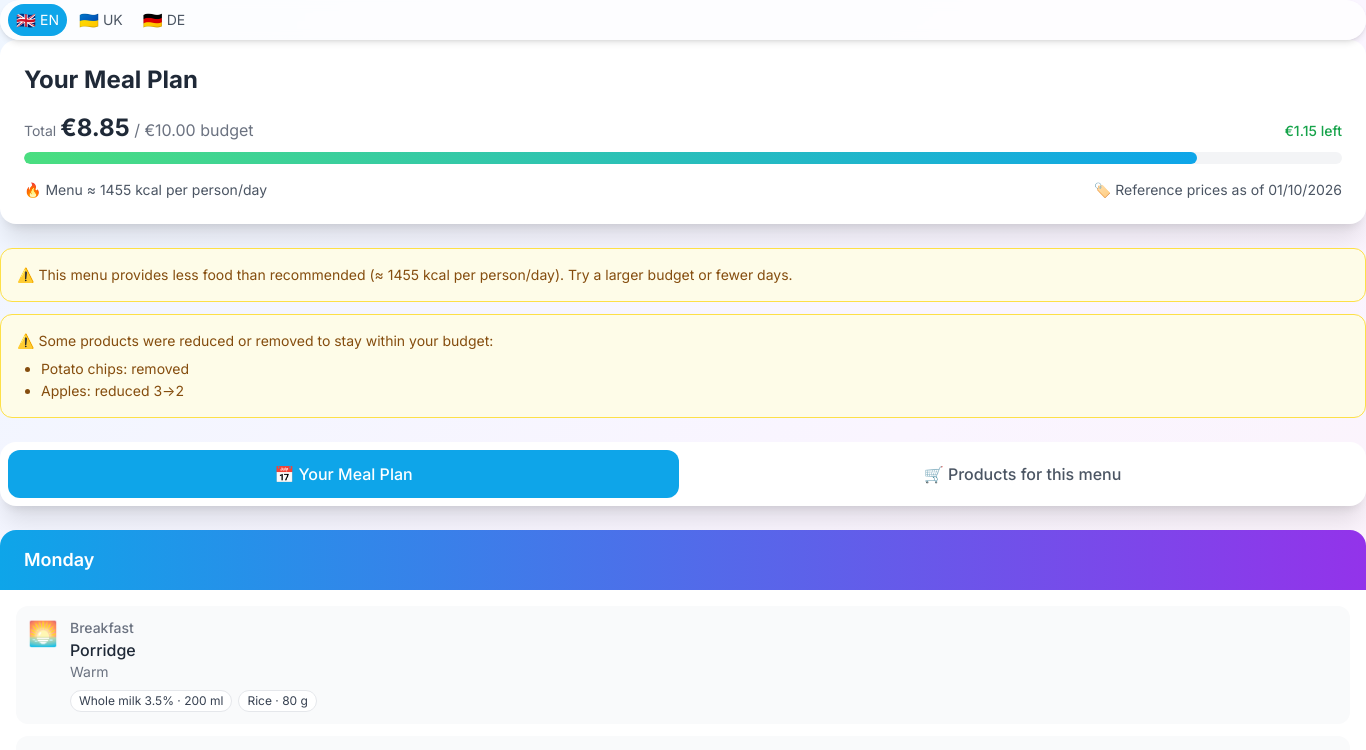
Scenario: Results › re-labels products when the UI language changes; meals stay as generated
Expected: the list item "Whole milk 3.5% · 200 ml" is shown, left=70, top=690, right=232, bottom=712
Click the button titled "Українська" at (101, 20), box left=71, top=4, right=131, bottom=36
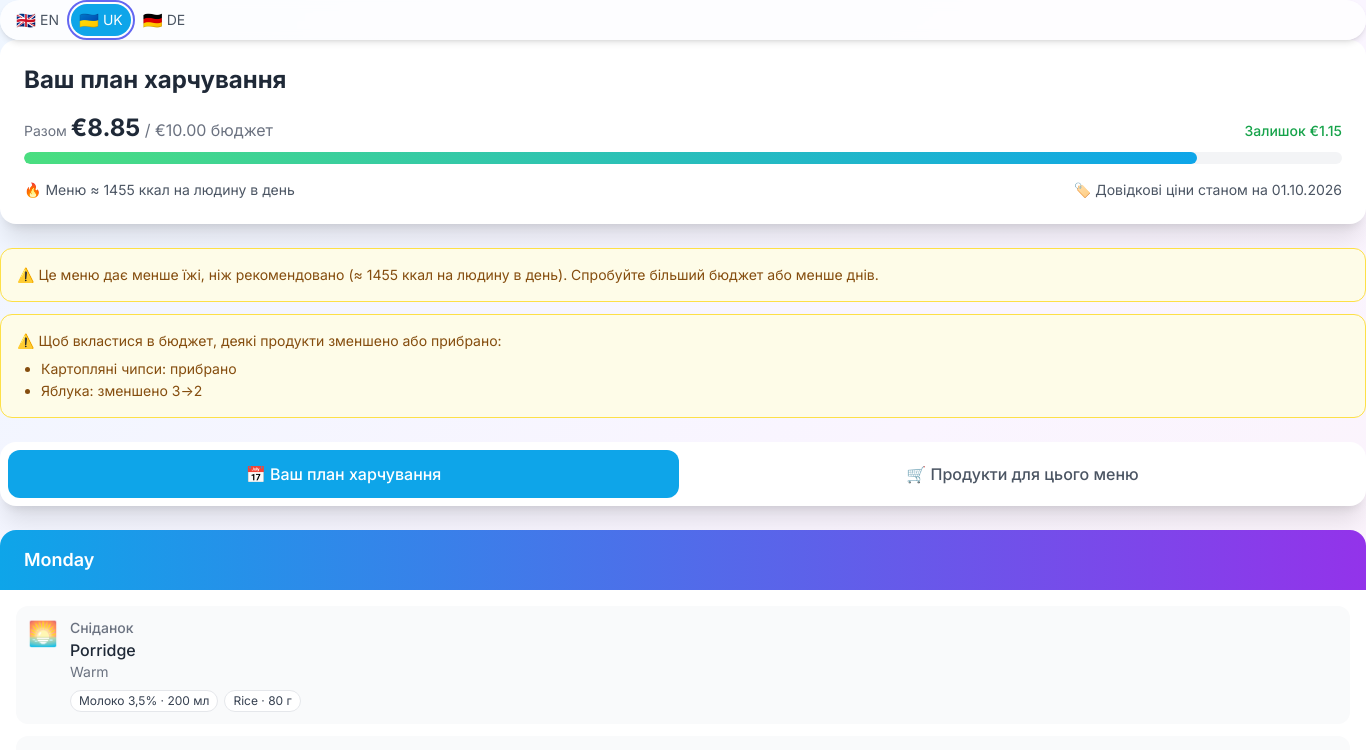
Expected: the text "Porridge" is shown, left=70, top=640, right=136, bottom=660
Now the list item "Молоко 3,5% · 200 мл" is shown, box left=70, top=690, right=218, bottom=712
Now the list item "Картопляні чипси: прибрано" is shown, box left=41, top=360, right=237, bottom=377
